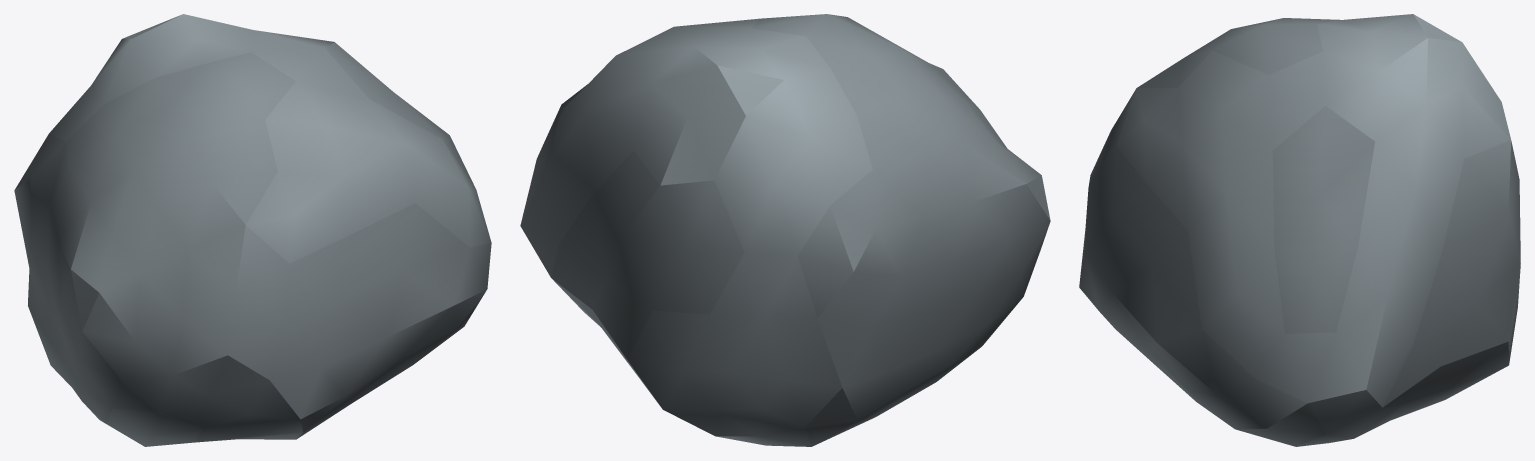
File: Rock_3_R_Color1.glb
3 views of the same model, side by side, from view 1: azimuth 30°, elevation 25°; view 2: azimuth 150°, elevation 25°; view 3: azimuth 270°, elevation 25° (orthographic). The views are drawn at different scales.
Visible parts, largest first — view 1: Rock_3_R_Color1; view 2: Rock_3_R_Color1; view 3: Rock_3_R_Color1.
Boxes of the visible parts, x1,y1,x2,y2 form: Rock_3_R_Color1: [14, 14, 491, 446]; Rock_3_R_Color1: [520, 14, 1050, 446]; Rock_3_R_Color1: [1079, 14, 1520, 446].
Size of the model in its own units: 5.16 by 3.85 by 4.21.
Materials: 1 (1 with a texture image).
